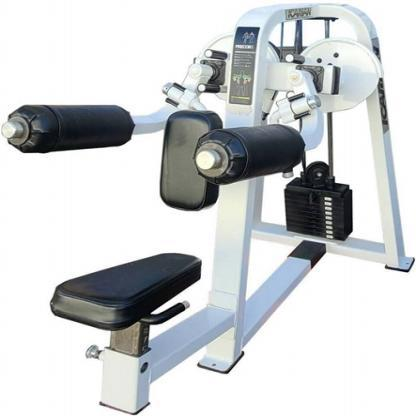lateral raises machine: (0, 4, 416, 416)
